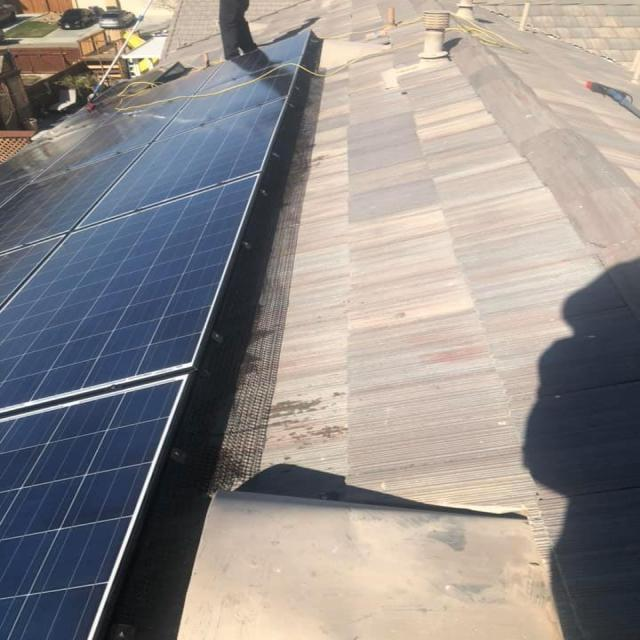clean-solar-panel: (3, 32, 312, 640)
